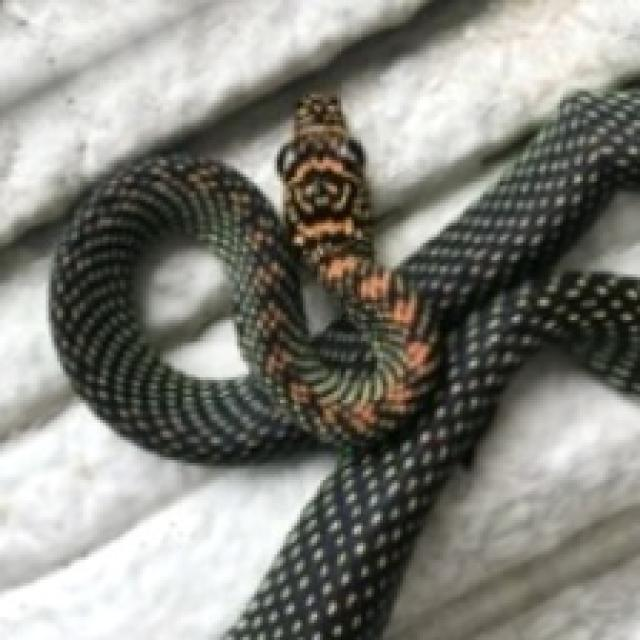paradise tree snake: (49, 89, 637, 637), (131, 231, 251, 380)
